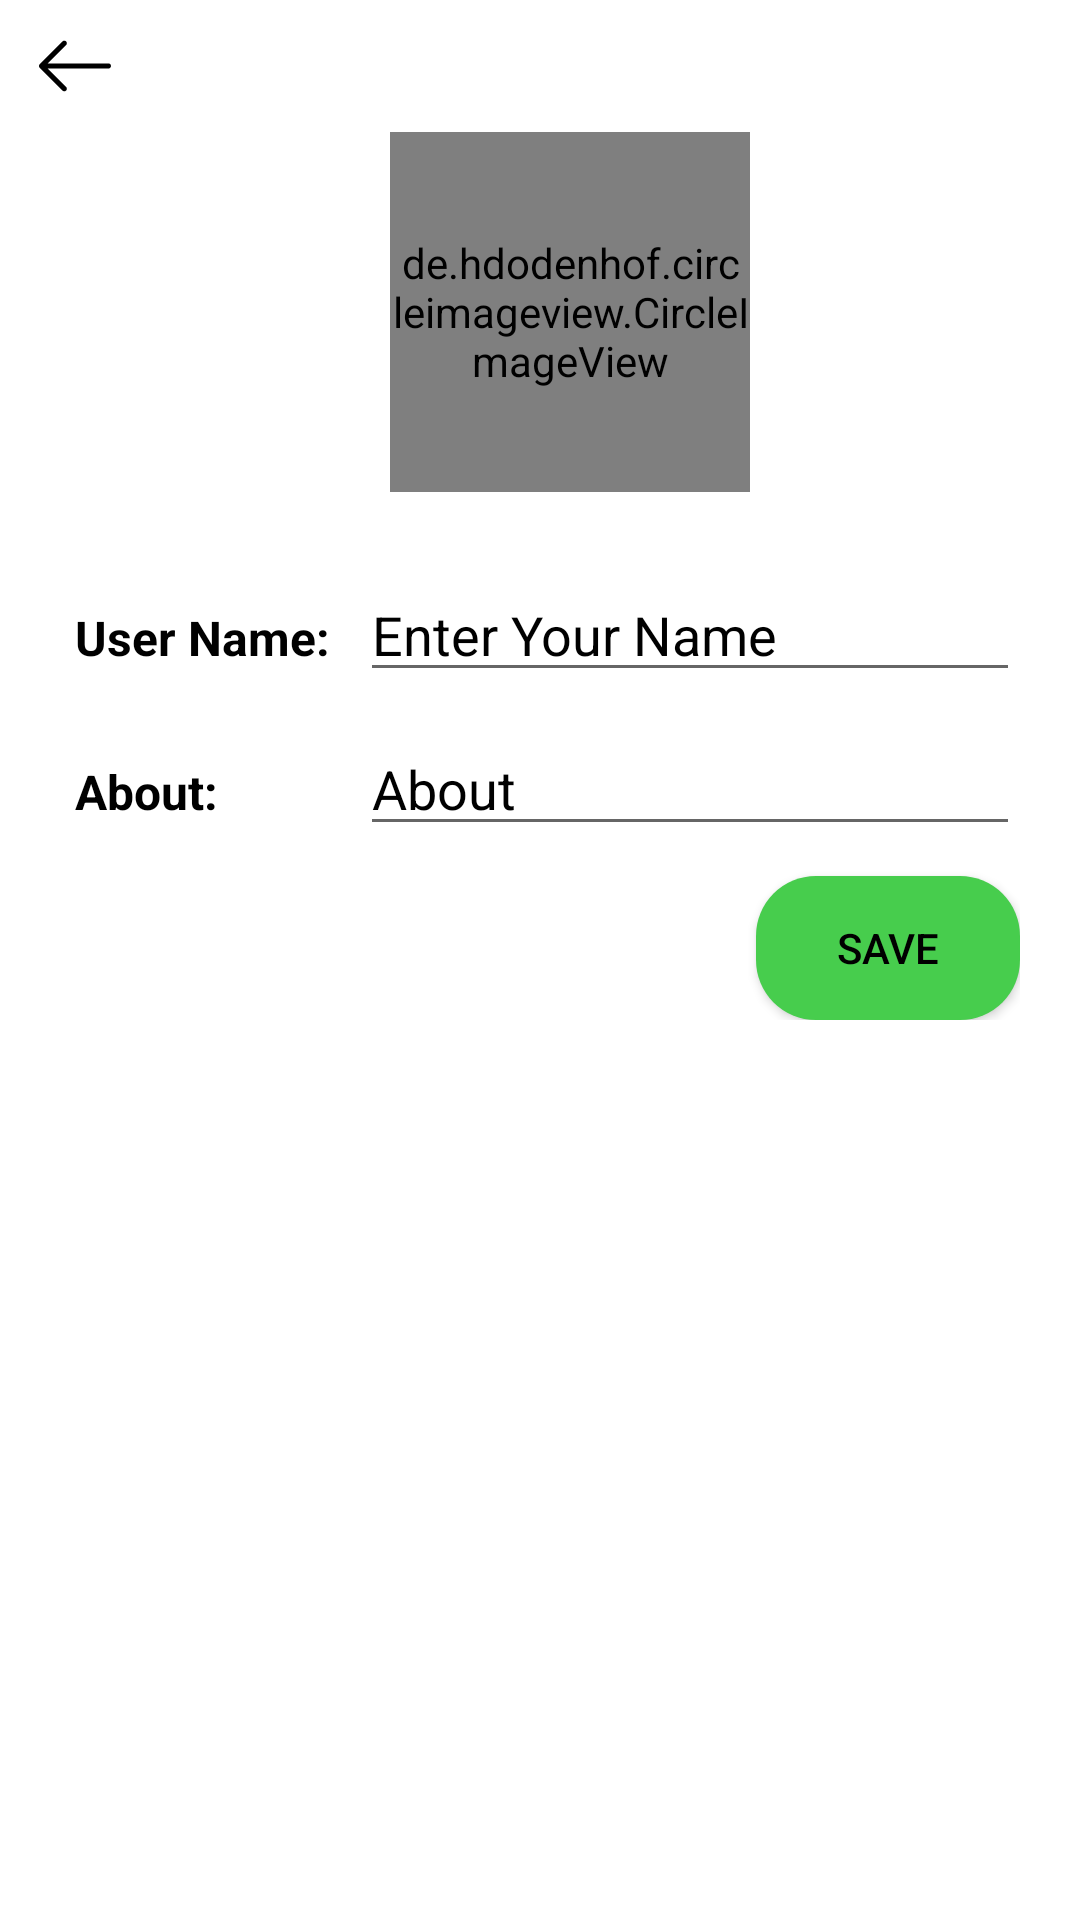

Where to tap for icons on this 1080x1920 app screen, as (x=x, y=y):
left arrow: (x=75, y=66)
